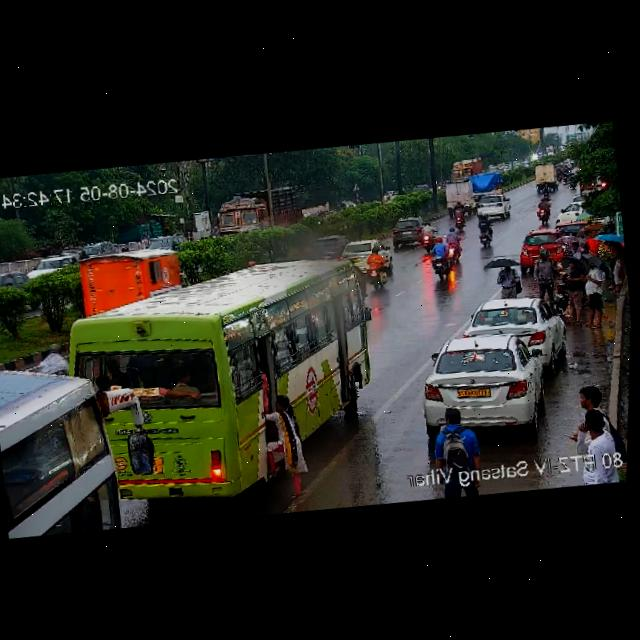bus: (43, 247, 388, 508), (0, 336, 159, 541)
car: (414, 326, 563, 438), (463, 292, 563, 360), (515, 227, 566, 264), (385, 215, 433, 247), (470, 193, 514, 222), (335, 238, 384, 263), (553, 199, 589, 227), (0, 261, 24, 289)
motorcycle: (420, 216, 471, 281), (360, 246, 392, 287), (468, 213, 498, 247), (534, 194, 557, 227), (447, 201, 472, 230), (308, 201, 335, 216)
person: (423, 409, 488, 485), (563, 383, 618, 461), (570, 255, 610, 327), (561, 258, 593, 324), (524, 251, 563, 304), (495, 258, 527, 300), (581, 421, 618, 457)
truck: (197, 181, 312, 243), (435, 168, 504, 215), (443, 153, 483, 183), (526, 161, 562, 193)
